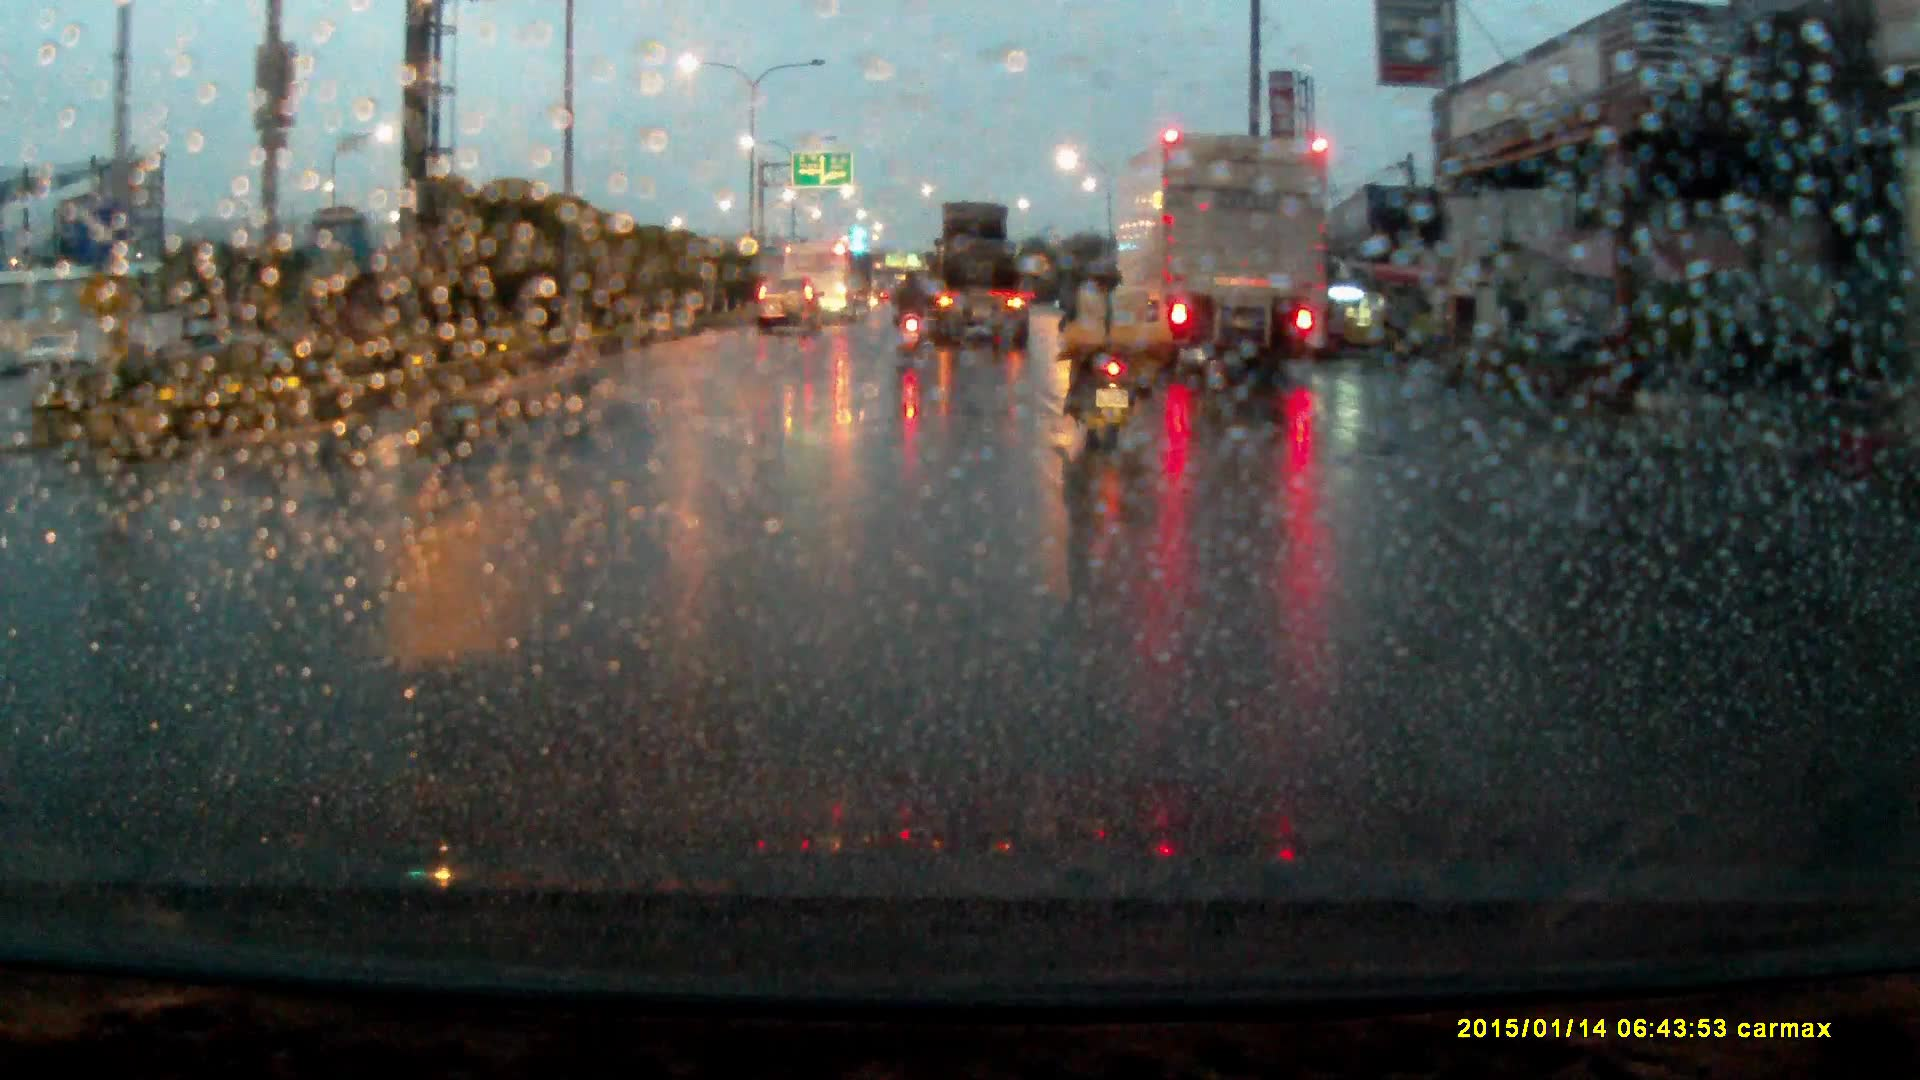rider: (1059, 254, 1144, 454), (892, 268, 932, 358)
vehicle: (1106, 132, 1330, 388), (925, 208, 1034, 364), (785, 244, 860, 327), (755, 285, 827, 351)
